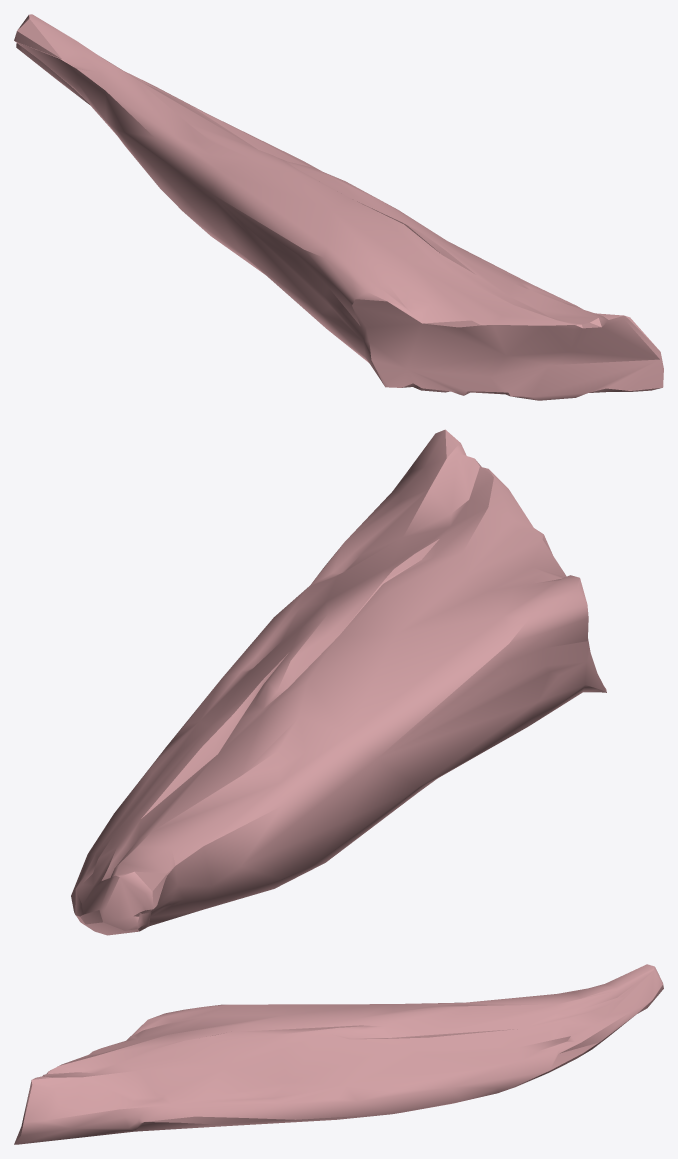
File: fma46304_fj79.glb
3 views of the same model, one above another, from view 1: azimuth 30°, elevation 25°; view 2: azimuth 150°, elevation 25°; view 3: azimuth 270°, elevation 25° (orthographic). The views are drawn at different scales.
Parts seen in each view (by area): view 1: FMA46304_FJ79; view 2: FMA46304_FJ79; view 3: FMA46304_FJ79.
Boxes of the visible parts, <box> form: FMA46304_FJ79: <box>14,14,663,400</box>; FMA46304_FJ79: <box>71,429,606,935</box>; FMA46304_FJ79: <box>14,964,663,1144</box>.
Size of the model in its own units: 0.0116 by 0.00614 by 0.0346.
